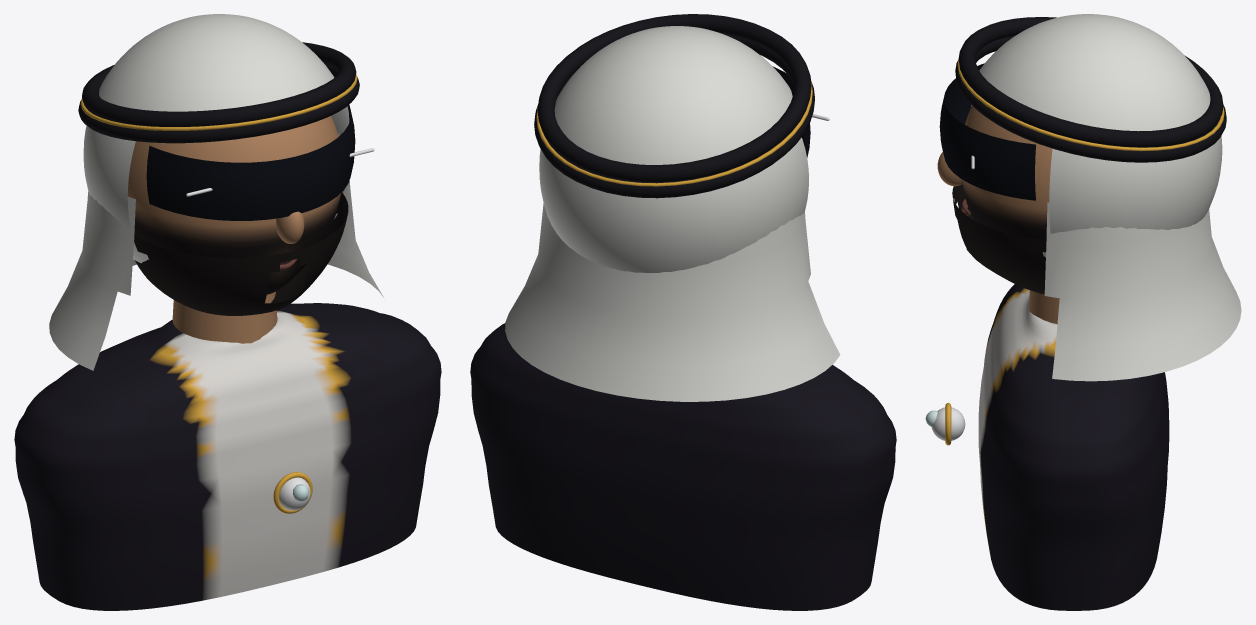
Rendered from magnate_xenon.fbx.
The picture shows the model from 3 angles, left to right: view 1: azimuth 30°, elevation 25°; view 2: azimuth 150°, elevation 25°; view 3: azimuth 270°, elevation 25°; orthographic projection. The views are drawn at different scales.
Visible parts, largest first — view 1: magnate_xenon, magnate_xenon__head; view 2: magnate_xenon__head, magnate_xenon; view 3: magnate_xenon__head, magnate_xenon.
Boxes of the visible parts, x1=… form: magnate_xenon: x1=14, y1=291, x2=441, y2=610; magnate_xenon__head: x1=49, y1=14, x2=383, y2=370; magnate_xenon__head: x1=505, y1=14, x2=840, y2=401; magnate_xenon: x1=470, y1=323, x2=896, y2=610; magnate_xenon__head: x1=937, y1=14, x2=1241, y2=381; magnate_xenon: x1=925, y1=284, x2=1169, y2=610.
Bounding box in the file's own units: 1.58 × 1.94 × 1.11.
